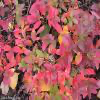Blueberry leaf: (44, 63, 63, 85), (40, 36, 58, 57), (3, 44, 21, 64), (75, 39, 91, 56), (77, 19, 85, 41), (61, 34, 74, 47), (50, 18, 60, 32), (58, 41, 66, 57), (65, 49, 73, 65)
